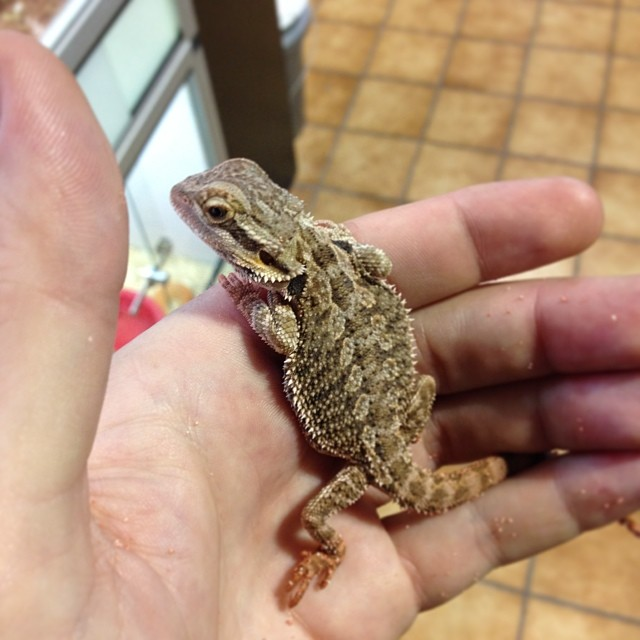bearded: (162, 154, 514, 611)
